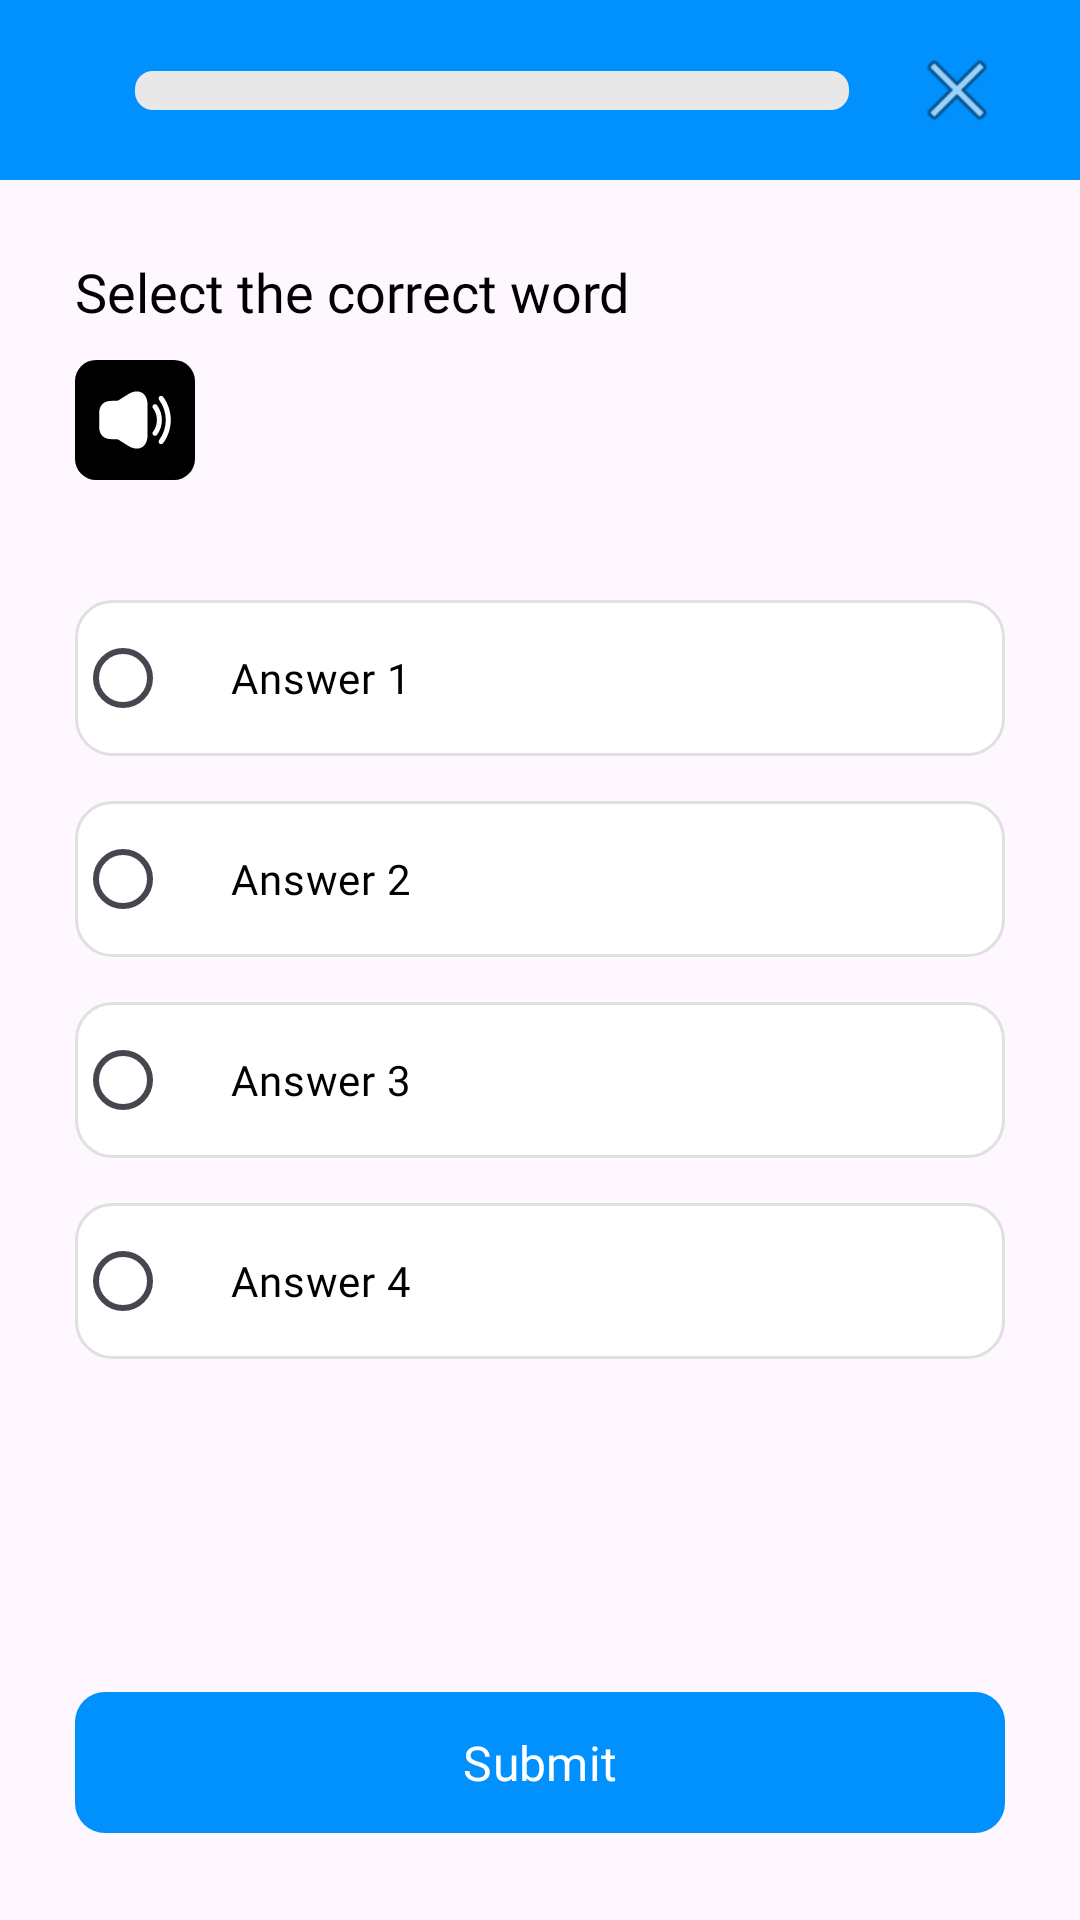

Locate icon controls on the screen. Image size 1080px×1920px, boxes as Rect(x1, y1, x2, y2).
close clear cancel: Rect(927, 60, 987, 120)
volume up: Rect(75, 360, 195, 480)
